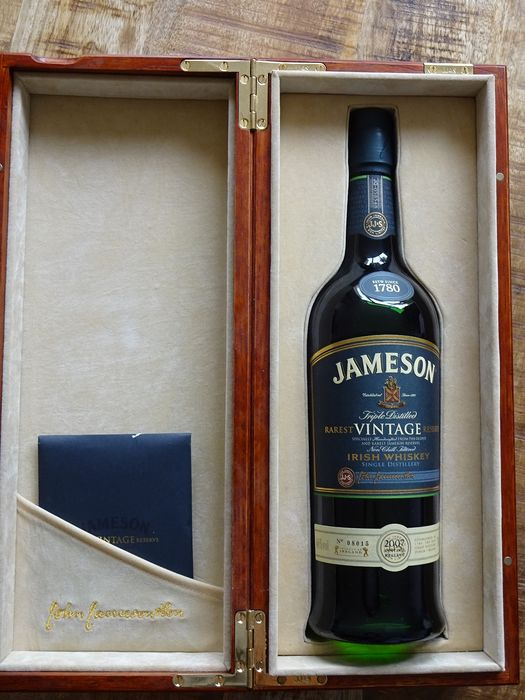Jameson: (299, 102, 453, 670)
